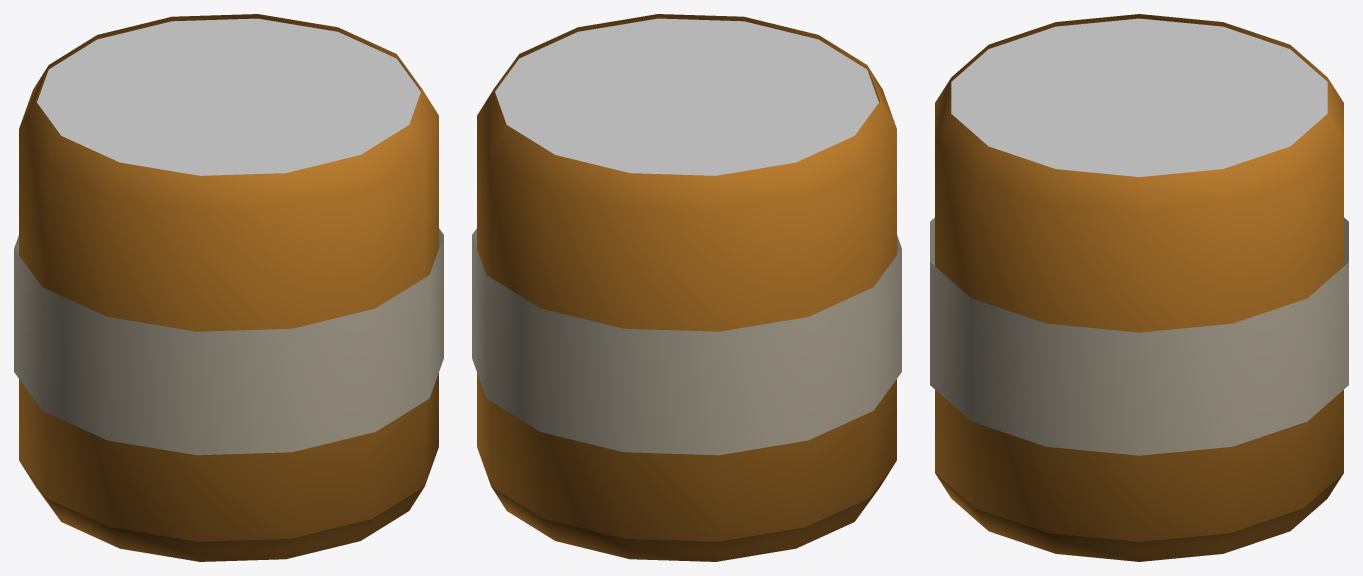
File: lata_melocoton.glb
The picture shows the model from 3 angles, left to right: view 1: azimuth 30°, elevation 25°; view 2: azimuth 150°, elevation 25°; view 3: azimuth 270°, elevation 25°; orthographic projection.
Parts seen in each view (by area): view 1: lata_melocoton; view 2: lata_melocoton; view 3: lata_melocoton.
Boxes of the visible parts, <box> form: lata_melocoton: <box>14,14,443,561</box>; lata_melocoton: <box>472,14,901,561</box>; lata_melocoton: <box>930,14,1348,561</box>.
Bounding box in the file's own units: 0.086 × 0.085 × 0.0838.
